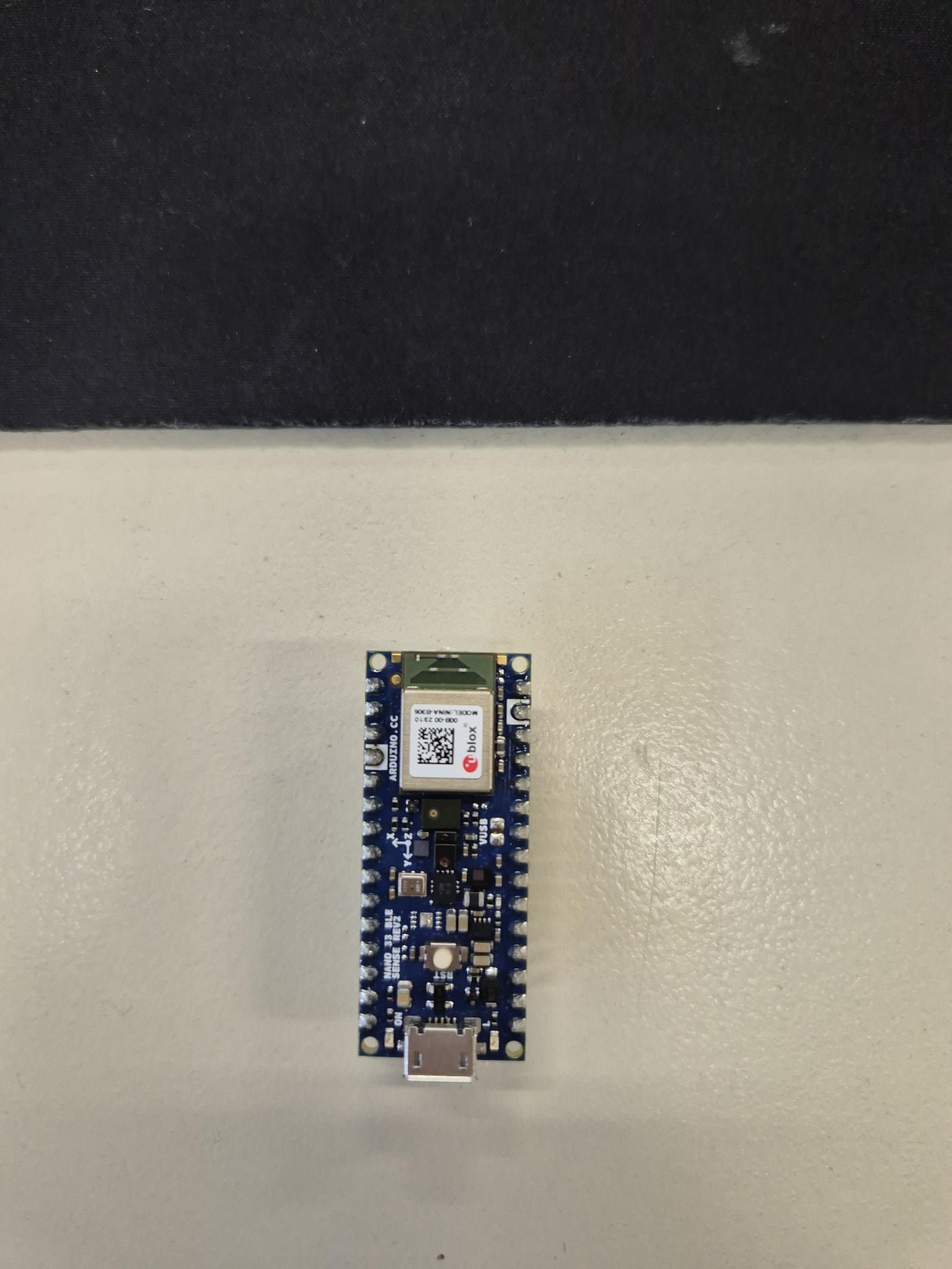arduino-nano-ble-sense: (360, 652, 531, 1060)
